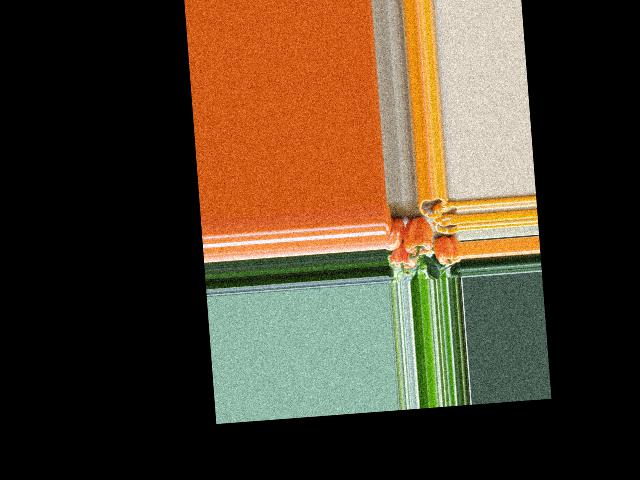bell_pepper: (383, 215, 405, 251)
